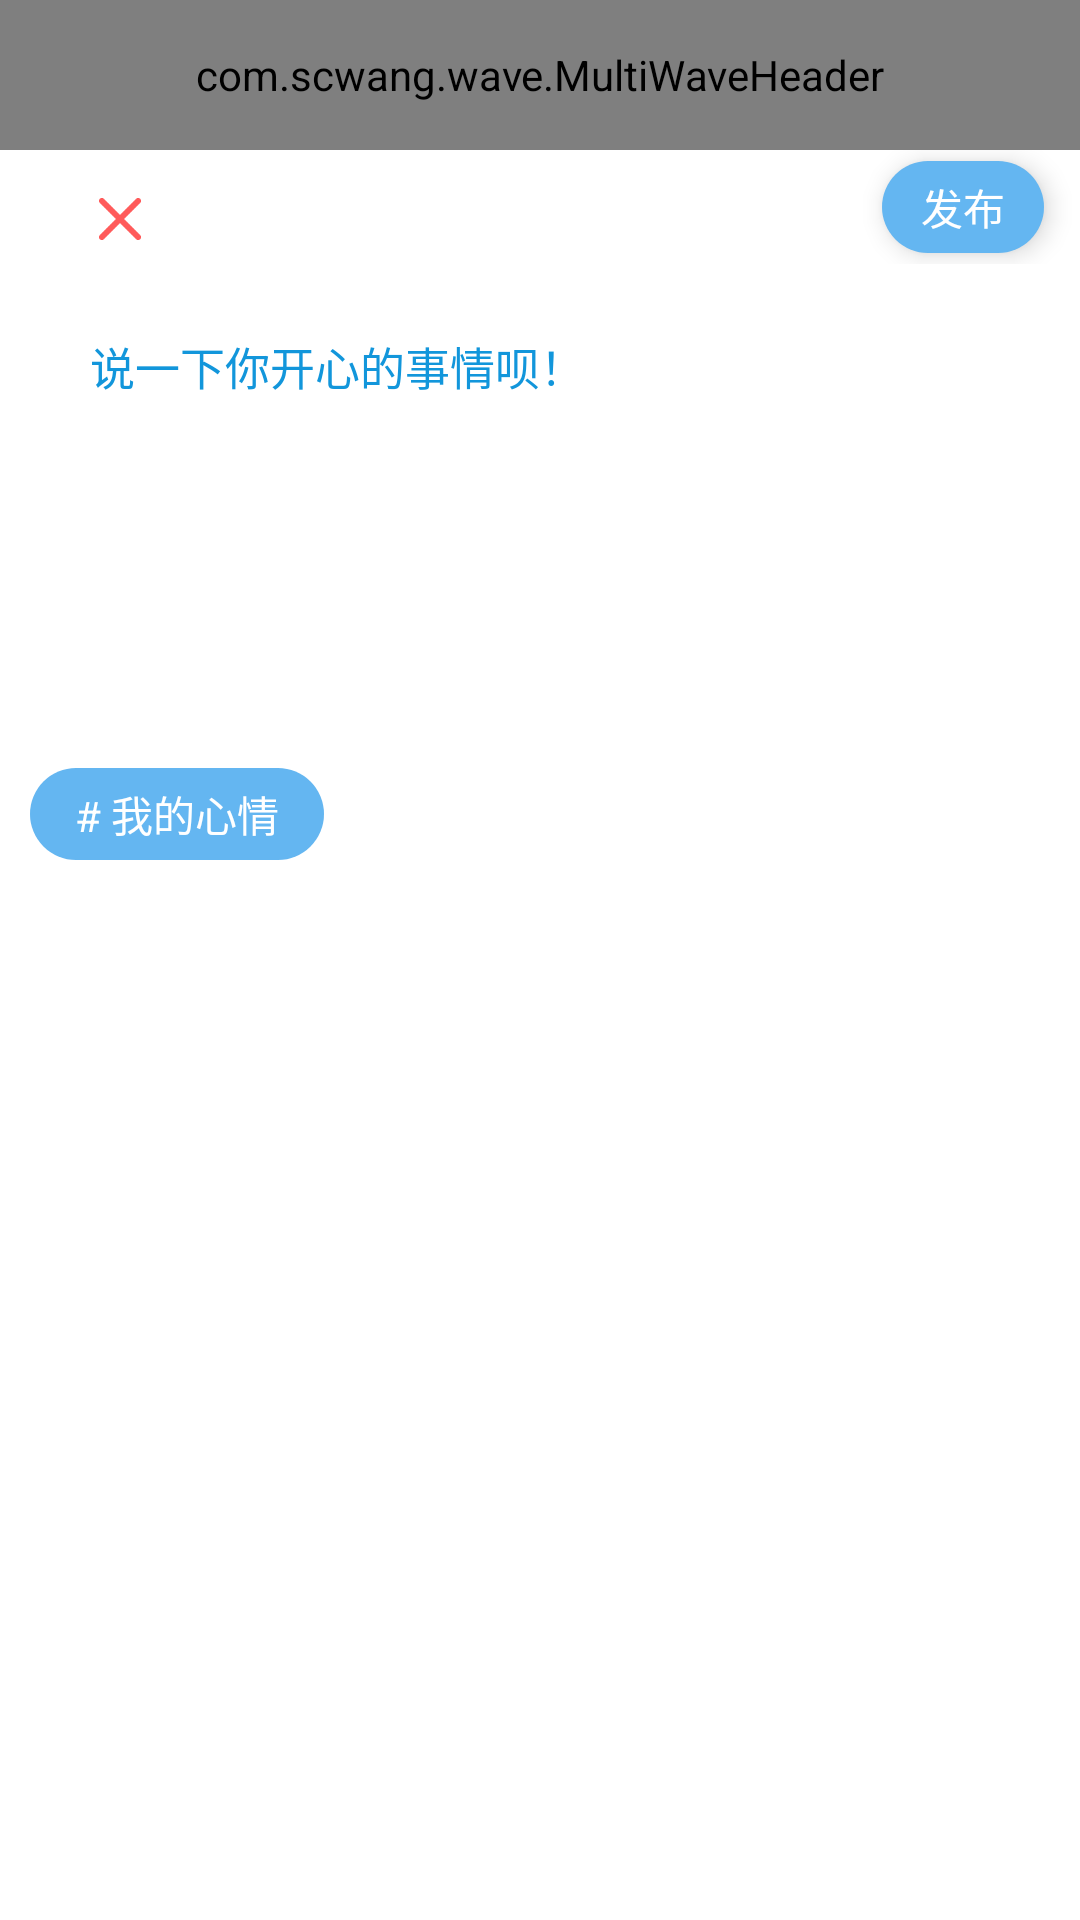

Where to tap for icons on this 1080x1920 app screen, as [x,y]:
edit post close: [120,219]
